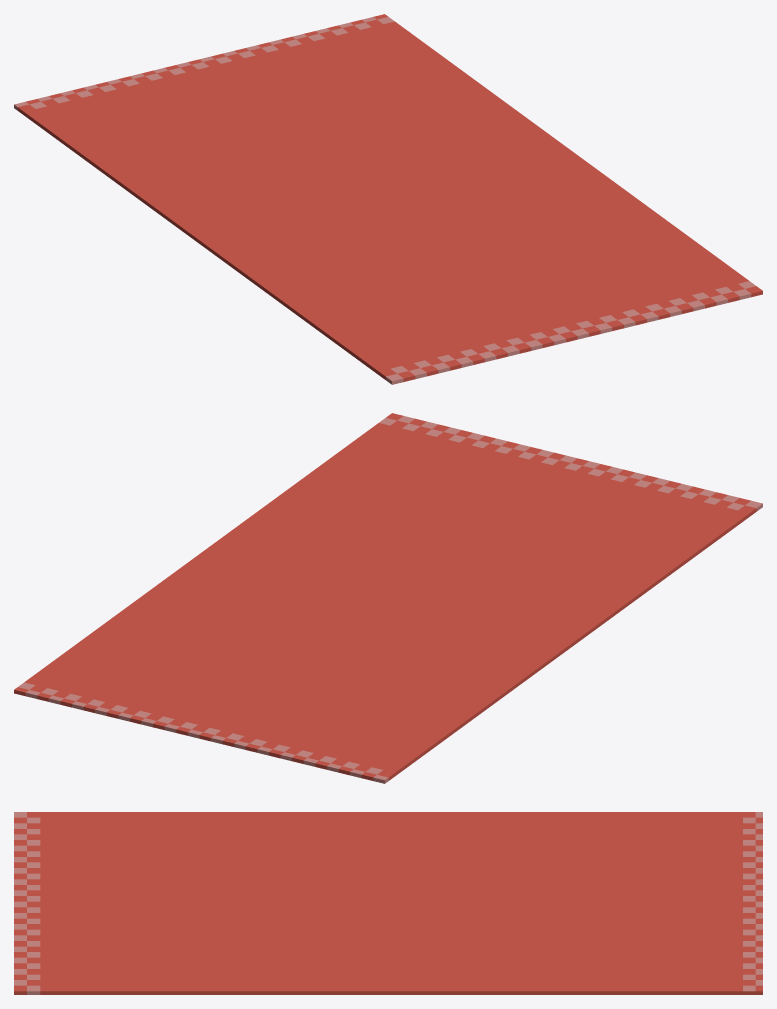
The model's file is teppich.dae.
3 renders of one model, top to bottom at view 1: azimuth 30°, elevation 25°; view 2: azimuth 150°, elevation 25°; view 3: azimuth 270°, elevation 25°, orthographic.
Parts seen in each view (by area): view 1: Cube; view 2: Cube; view 3: Cube.
Boxes of the visible parts, box(x1,y1,x2,y2) form: Cube: box(14, 14, 762, 384); Cube: box(14, 413, 762, 783); Cube: box(14, 812, 762, 994).
Size of the model in its own units: 0.2662 by 0.4701 by 0.00249.
